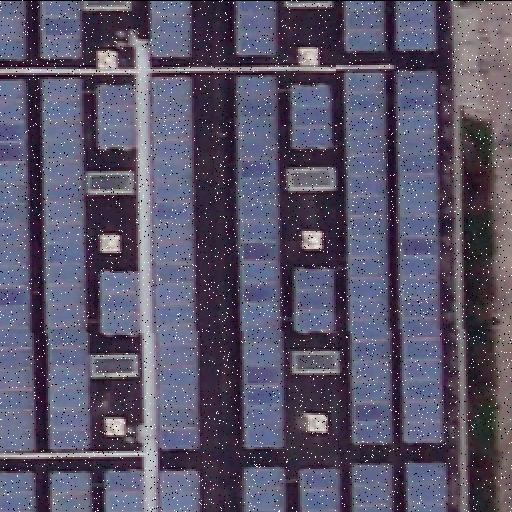solar-panel: (239, 70, 393, 450), (396, 67, 444, 445), (152, 75, 200, 453), (42, 78, 90, 454), (0, 78, 36, 454), (100, 270, 140, 334), (40, 3, 84, 61), (98, 85, 138, 147), (151, 2, 193, 58), (404, 460, 448, 512), (342, 2, 386, 54), (394, 3, 438, 53), (236, 1, 276, 55), (156, 465, 200, 511), (351, 464, 393, 512), (299, 464, 341, 512), (244, 464, 284, 512), (103, 468, 145, 512), (48, 472, 92, 512), (0, 2, 26, 62), (0, 472, 36, 512)
